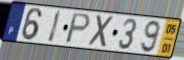3: (117, 17, 139, 51)
6: (19, 7, 44, 42)
9: (140, 19, 161, 55)
I: (46, 9, 63, 45)
P: (63, 12, 93, 46)
X: (87, 13, 116, 50)
